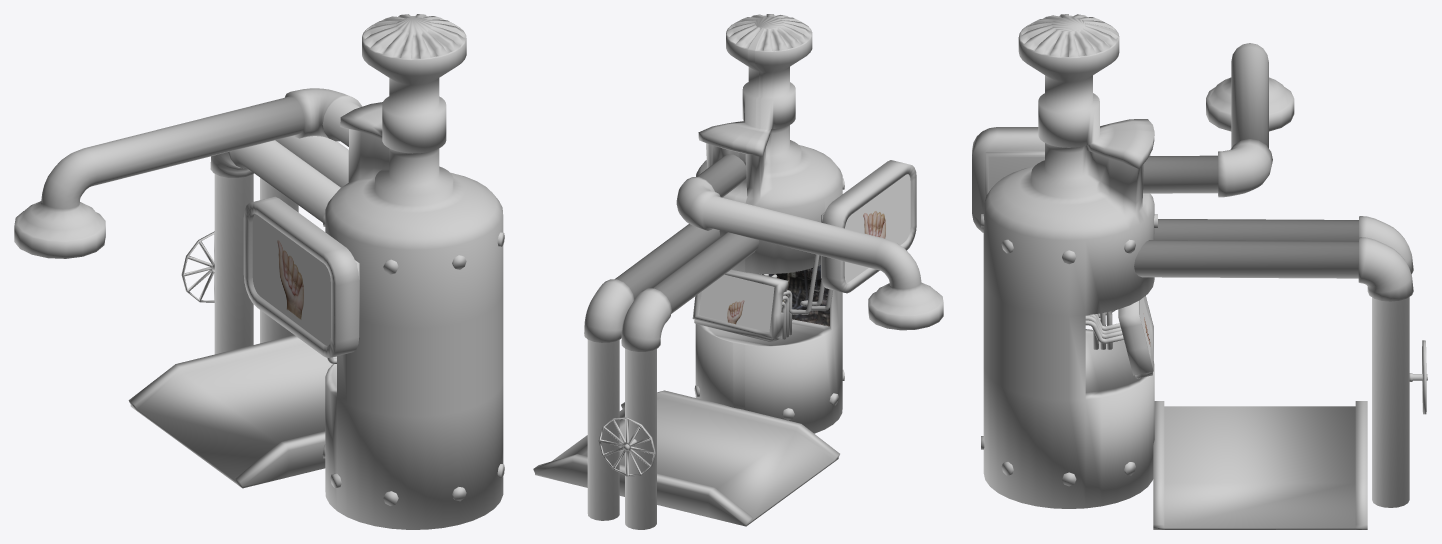
File: booster.fbx
The picture shows the model from 3 angles, left to right: view 1: azimuth 30°, elevation 25°; view 2: azimuth 150°, elevation 25°; view 3: azimuth 270°, elevation 25°; orthographic projection. The views are drawn at different scales.
Parts seen in each view (by area): view 1: booster, isyarat; view 2: booster, isyarat; view 3: booster.
Part boxes in pixels (left/top/right/bottom): booster: left=14, top=14, right=504, bottom=529; isyarat: left=252, top=214, right=330, bottom=346; booster: left=533, top=14, right=943, bottom=529; isyarat: left=699, top=174, right=910, bottom=332; booster: left=972, top=14, right=1427, bottom=529.
Size of the model in its own units: 1044 by 1113 by 998.
